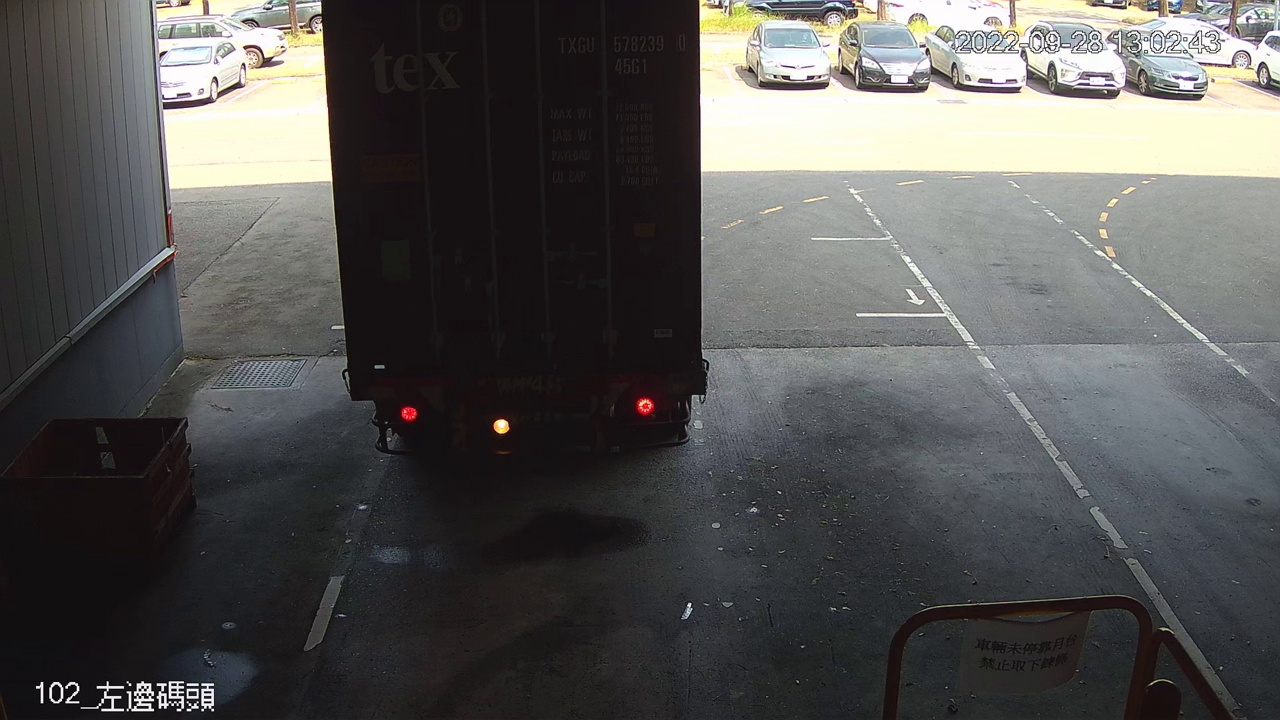container: (550, 27, 692, 80)
